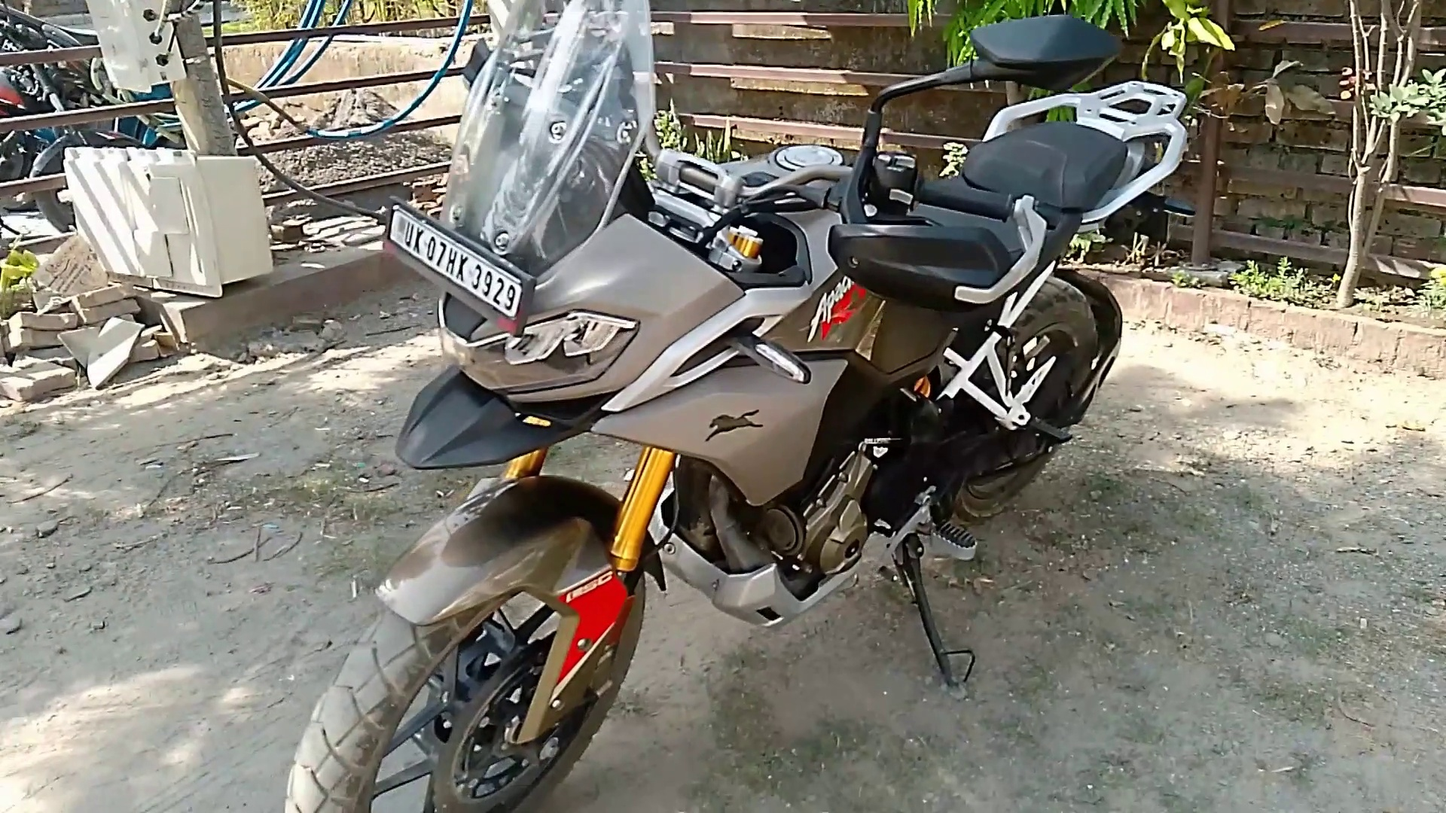engine: (772, 423, 892, 597)
